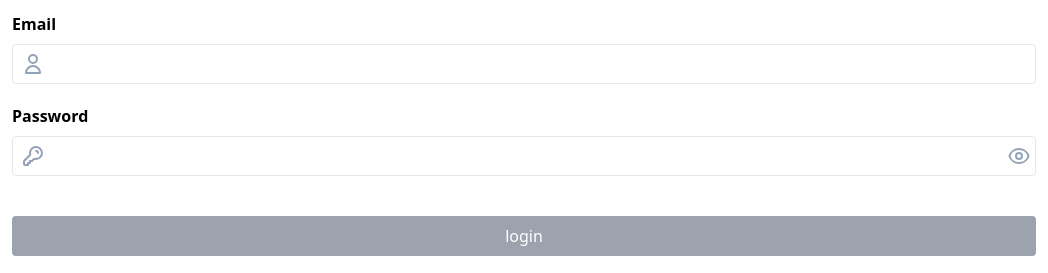
Test: loginFormComponent › Once form is fullfilled and user remove all the text in any input it will disable login button
Type "mail@mail.com" into the field labelled "Email".
click(544, 64); type("mail@mail.com")  # box top-left (53, 52), bottom-right (1035, 76)
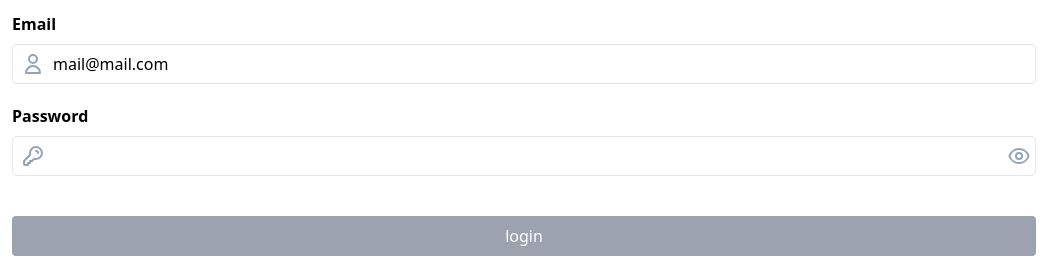
Type "password" into the password field labelled "Password".
click(530, 156); type("password")  # box top-left (53, 144), bottom-right (1007, 168)
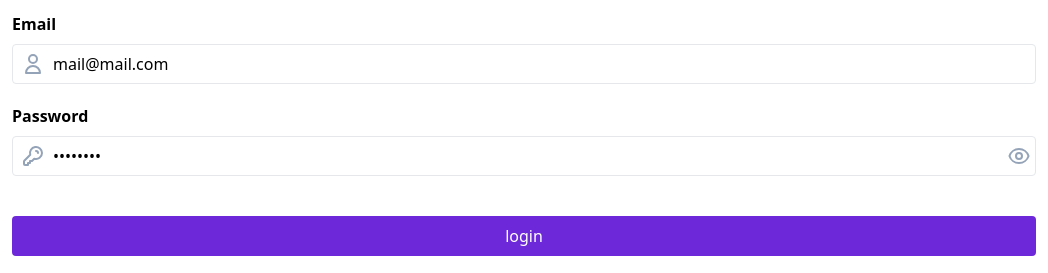
Clear the field labelled "Email" at (544, 64), box top-left (53, 52), bottom-right (1035, 76)
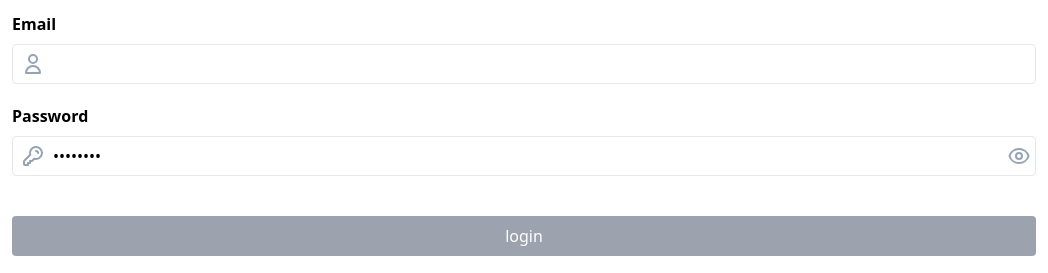
Now the button "login" is disabled, box top-left (12, 216), bottom-right (1036, 256)
